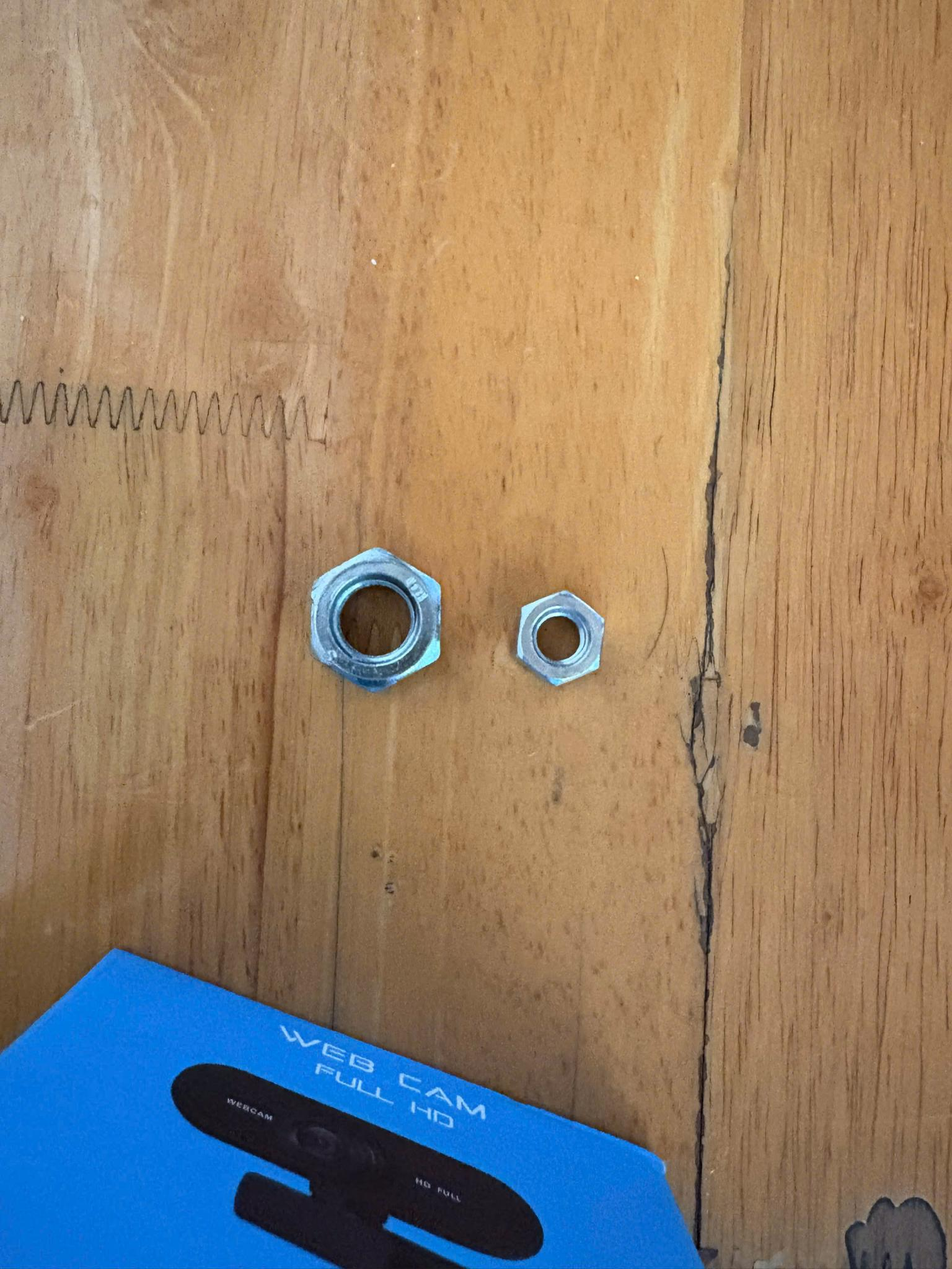nut: (285, 528, 464, 720), (508, 578, 617, 706)
